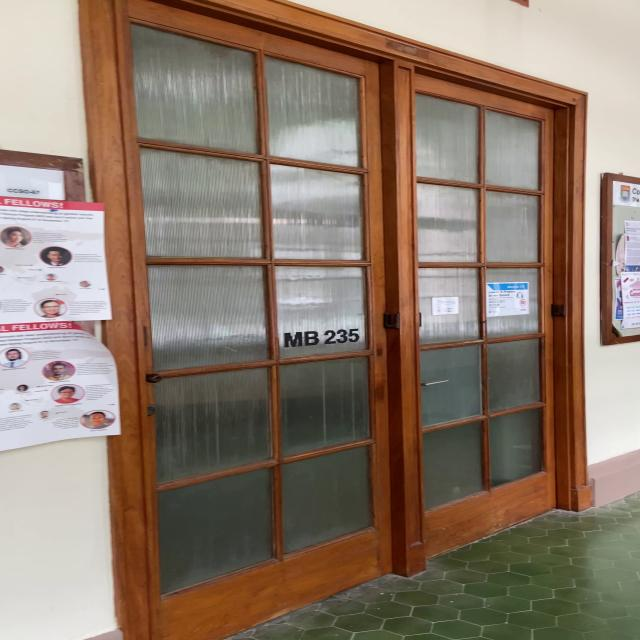room235Window: (279, 326, 363, 350)
